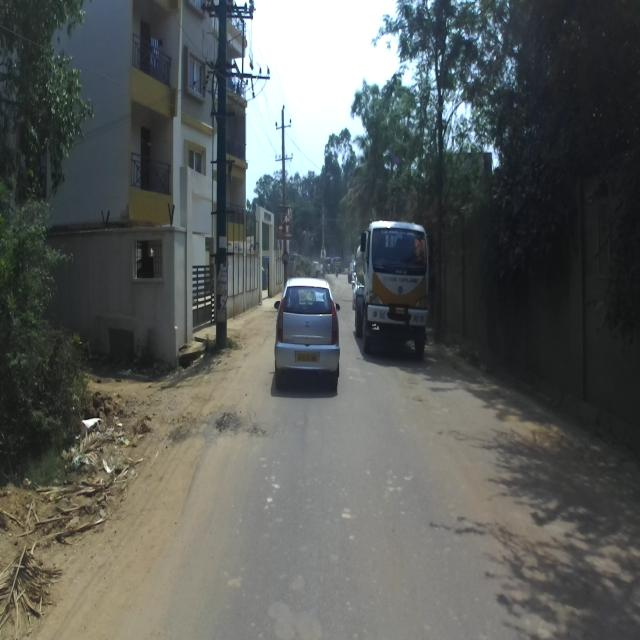car ahead at: (267, 273, 342, 393)
electric pole ahead at: (196, 0, 249, 357)
truck ahead at: (356, 208, 436, 366)
